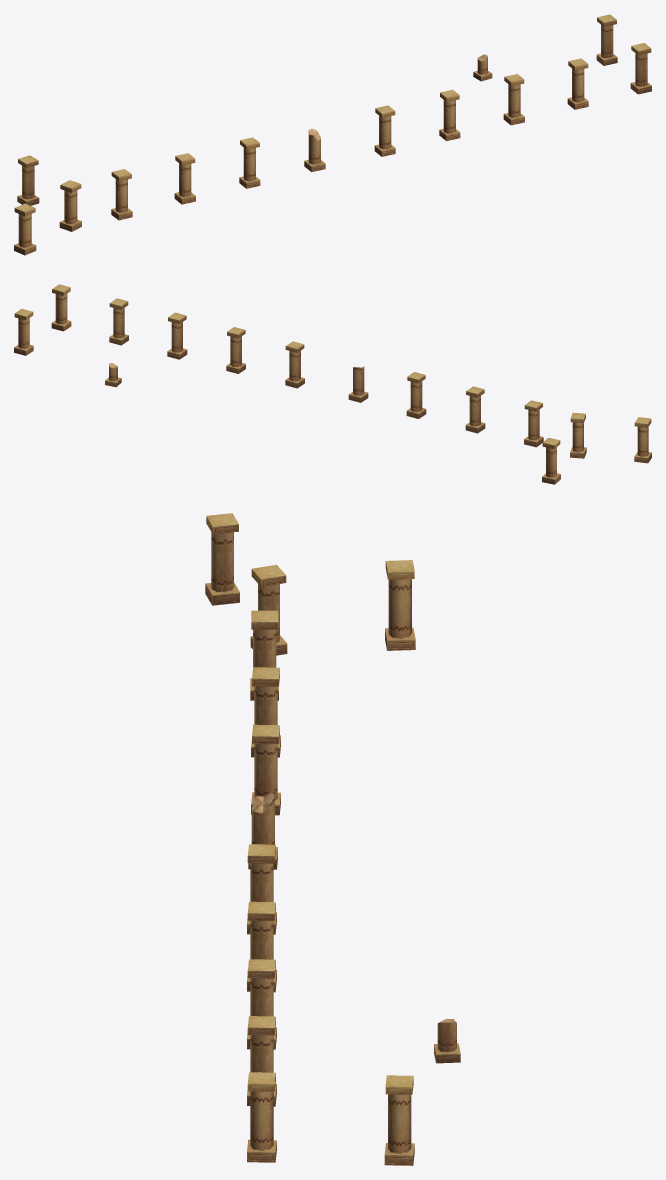
Rendered from Area_11_8.fbx.
The picture shows the model from 3 angles, top to bottom: view 1: azimuth 30°, elevation 25°; view 2: azimuth 150°, elevation 25°; view 3: azimuth 270°, elevation 25°; orthographic projection. The views are drawn at different scales.
Parts seen in each view (by area): view 1: Area_11_8; view 2: Area_11_8; view 3: Area_11_8.
Boxes of the visible parts, x1,y1,x2,y2 form: Area_11_8: (14,14,651,255); Area_11_8: (14,284,651,484); Area_11_8: (205,513,460,1165).
Size of the model in its own units: 7478 by 475 by 1404.
